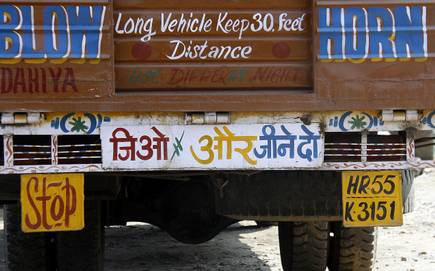doublelinenumberplate: (342, 168, 403, 228)
